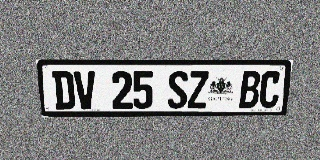2: (111, 71, 133, 109)
5: (133, 71, 153, 109)
B: (239, 71, 261, 108)
C: (258, 71, 281, 108)
D: (52, 71, 76, 109)
S: (167, 71, 188, 109)
V: (74, 71, 97, 109)
Z: (188, 71, 209, 108)
